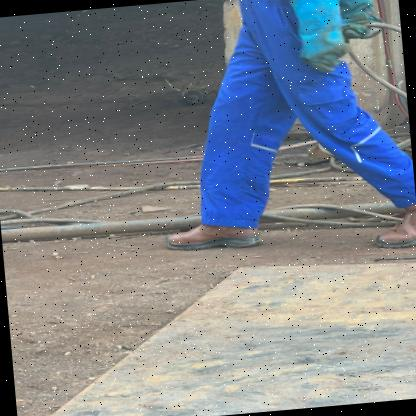bota: (165, 218, 270, 256), (368, 199, 416, 251)
